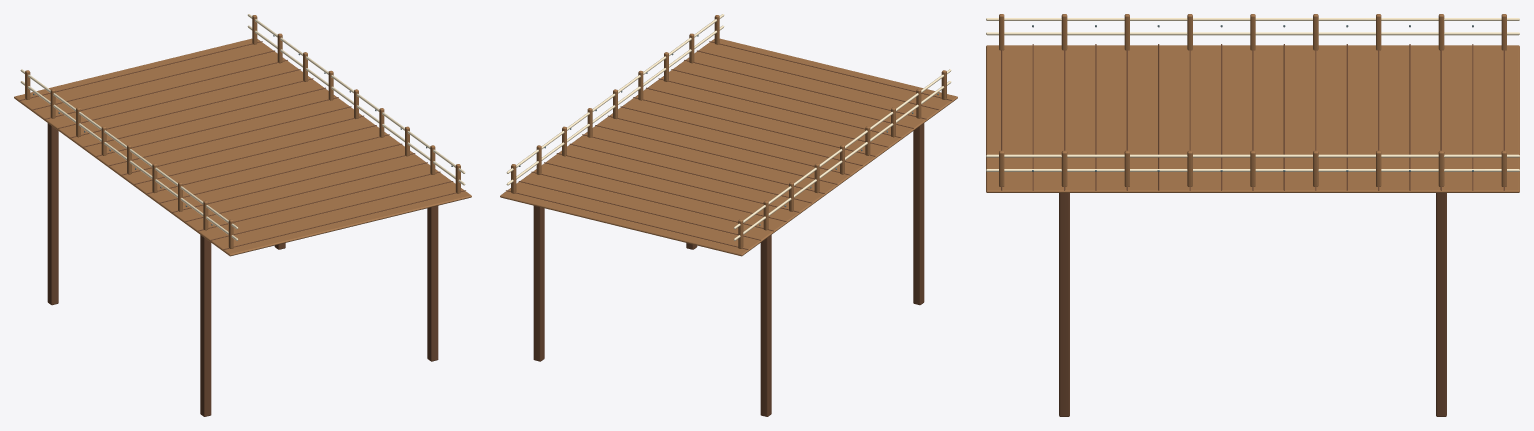
File: race_bridge_mobile.glb
3 views of the same model, side by side, from view 1: azimuth 30°, elevation 25°; view 2: azimuth 150°, elevation 25°; view 3: azimuth 270°, elevation 25° (orthographic). The views are drawn at different scales.
Visible parts, largest first — view 1: race_bridge; view 2: race_bridge; view 3: race_bridge.
Boxes of the visible parts, box(x1,y1,x2,y2) form: race_bridge: box(14, 14, 471, 416); race_bridge: box(500, 14, 957, 416); race_bridge: box(986, 14, 1519, 416).
Size of the model in its own units: 22 by 18.55 by 34.
